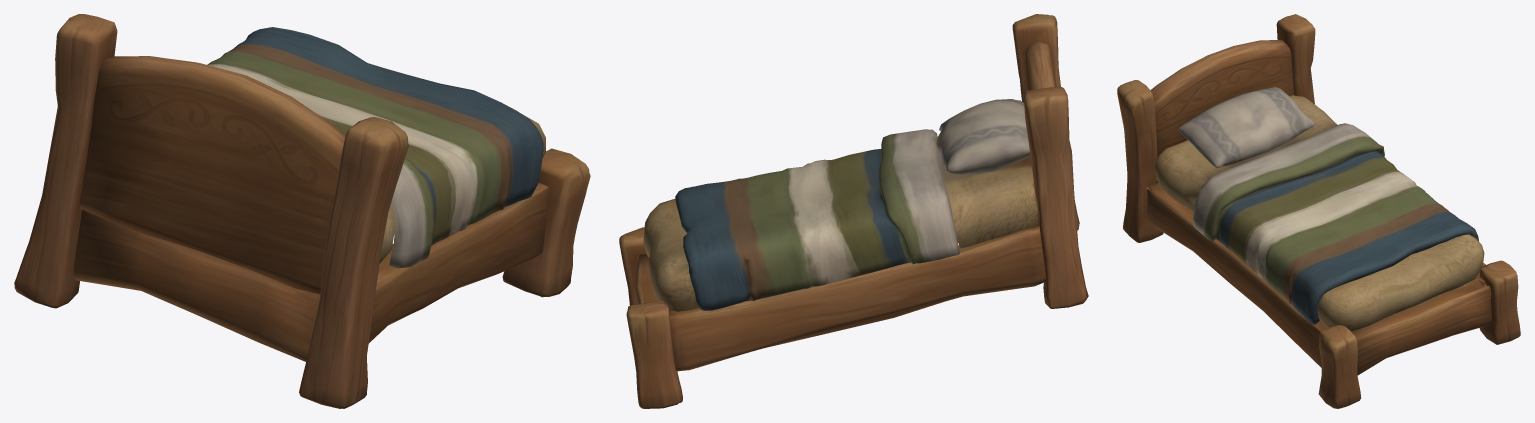
The picture shows the model from 3 angles, left to right: view 1: azimuth 30°, elevation 25°; view 2: azimuth 150°, elevation 25°; view 3: azimuth 270°, elevation 25°; orthographic projection. The views are drawn at different scales.
Visible parts, largest first — view 1: tripo_node_0c01c346-b5ff-4646-8037-4236038a07b9; view 2: tripo_node_0c01c346-b5ff-4646-8037-4236038a07b9; view 3: tripo_node_0c01c346-b5ff-4646-8037-4236038a07b9.
Boxes of the visible parts, bbox=[...] form: tripo_node_0c01c346-b5ff-4646-8037-4236038a07b9: bbox=[14, 14, 590, 408]; tripo_node_0c01c346-b5ff-4646-8037-4236038a07b9: bbox=[619, 14, 1088, 408]; tripo_node_0c01c346-b5ff-4646-8037-4236038a07b9: bbox=[1117, 14, 1520, 408].
Bounding box in the file's own units: 0.998 × 0.6582 × 0.998.
1 material, 1 textured.
